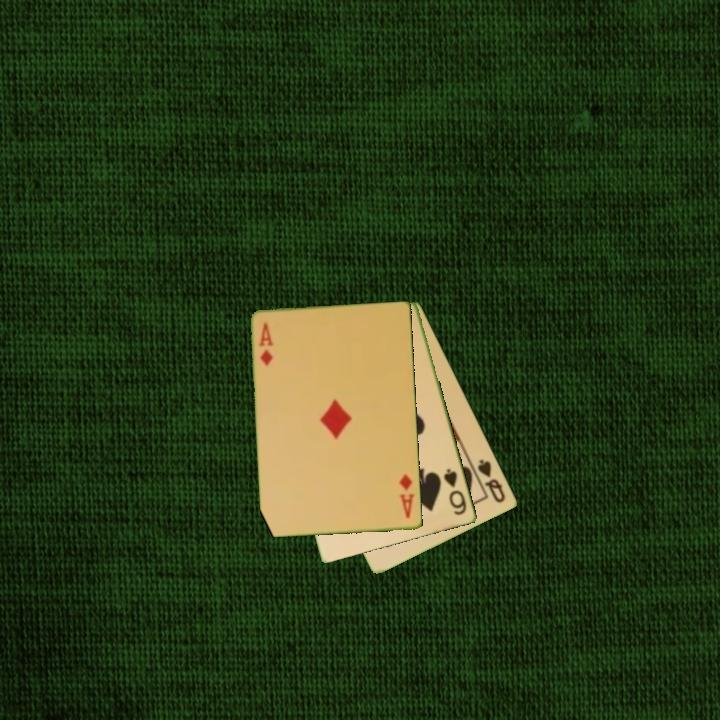6s: (440, 465, 470, 518)
Ad: (396, 471, 417, 521), (255, 319, 276, 369)
Qs: (474, 456, 509, 506)
